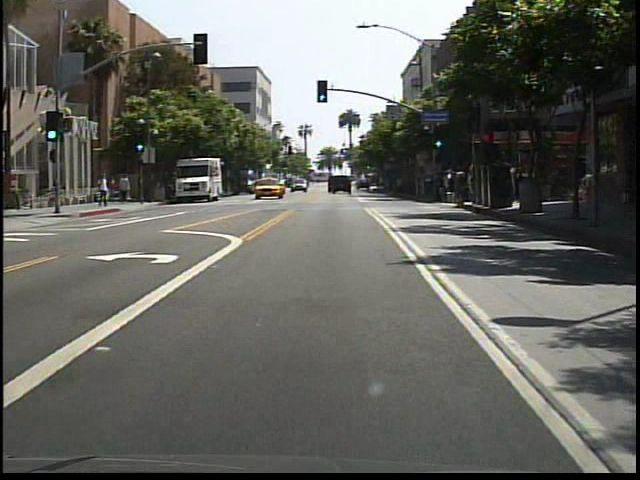person: (119, 172, 134, 204), (99, 173, 111, 209), (46, 185, 61, 210), (109, 175, 121, 204)
